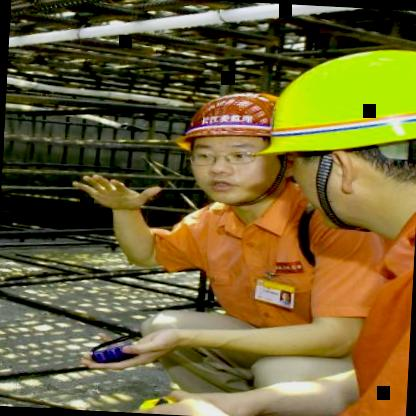helmet: (249, 34, 416, 234), (167, 78, 287, 209)
